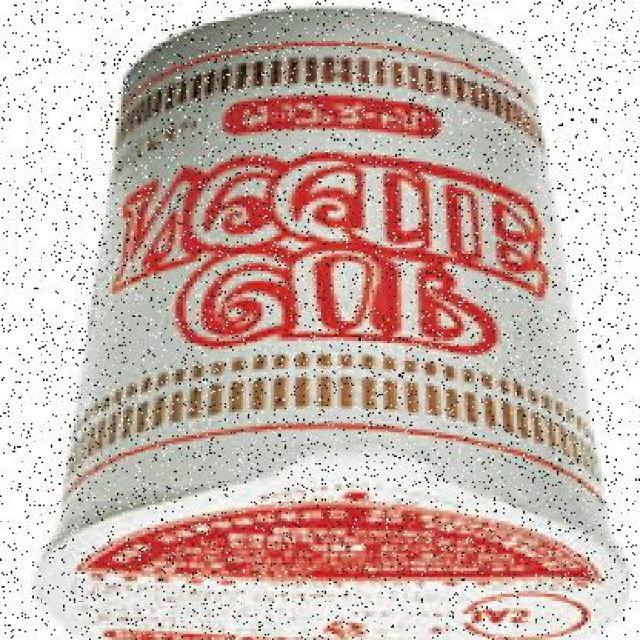Miscellaneous: (29, 14, 608, 640)
